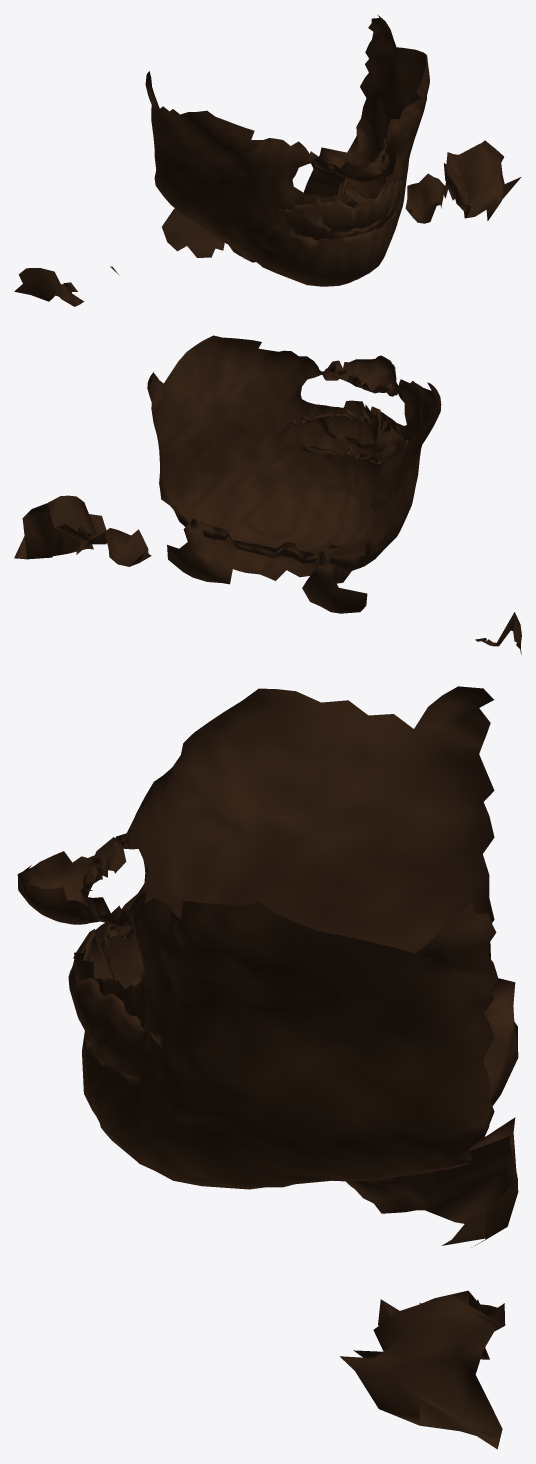
File: kopf.bart.vollbart.glb
3 views of the same model, one above another, from view 1: azimuth 30°, elevation 25°; view 2: azimuth 150°, elevation 25°; view 3: azimuth 270°, elevation 25° (orthographic). The views are drawn at different scales.
Parts seen in each view (by area): view 1: bart; view 2: bart; view 3: bart.
Part boxes in pixels (x1=…): bart: x1=14, y1=14, x2=521, y2=306; bart: x1=14, y1=335, x2=521, y2=654; bart: x1=17, y1=686, x2=518, y2=1449.
Size of the model in its own units: 0.3126 by 0.129 by 0.1374.
